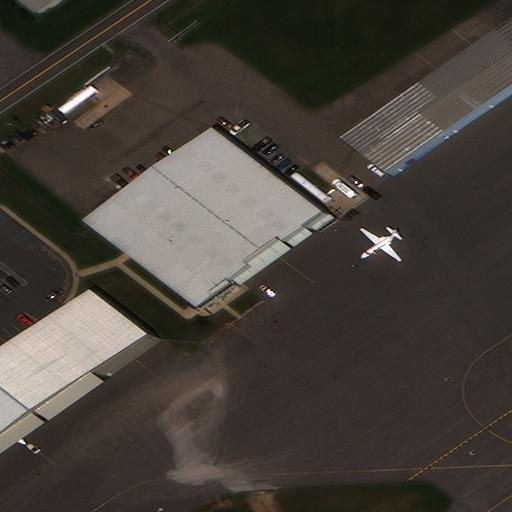Medium Civil Transport: (359, 229, 398, 262)
